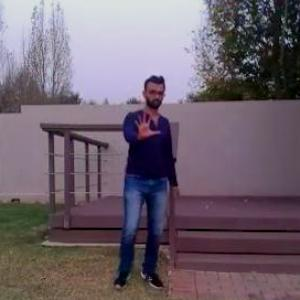follow_hand: (130, 107, 162, 143)
